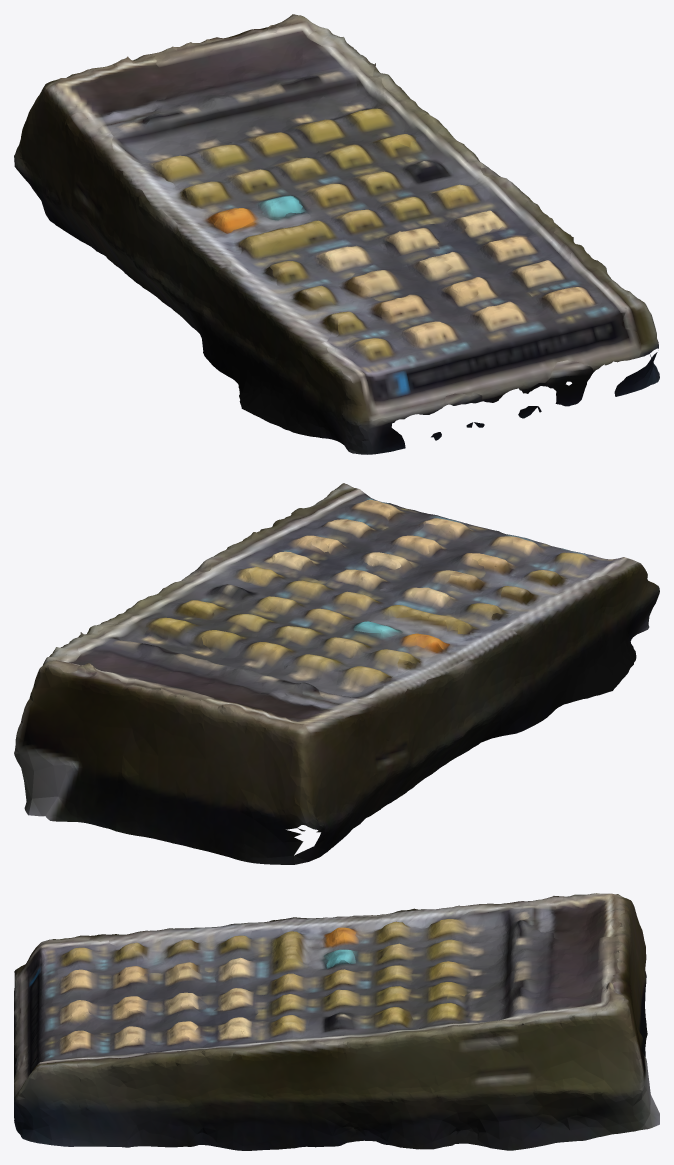
3 renders of one model, top to bottom at view 1: azimuth 30°, elevation 25°; view 2: azimuth 150°, elevation 25°; view 3: azimuth 270°, elevation 25°, orthographic. The views are drawn at different scales.
Parts seen in each view (by area): view 1: mesh; view 2: mesh; view 3: mesh.
Boxes of the visible parts, left/top/right/bottom form: mesh: left=14, top=14, right=659, bottom=454; mesh: left=14, top=483, right=659, bottom=864; mesh: left=14, top=893, right=659, bottom=1150.
Bounding box in the file's own units: 0.0899 × 0.0325 × 0.1499.
1 material, 1 textured.
